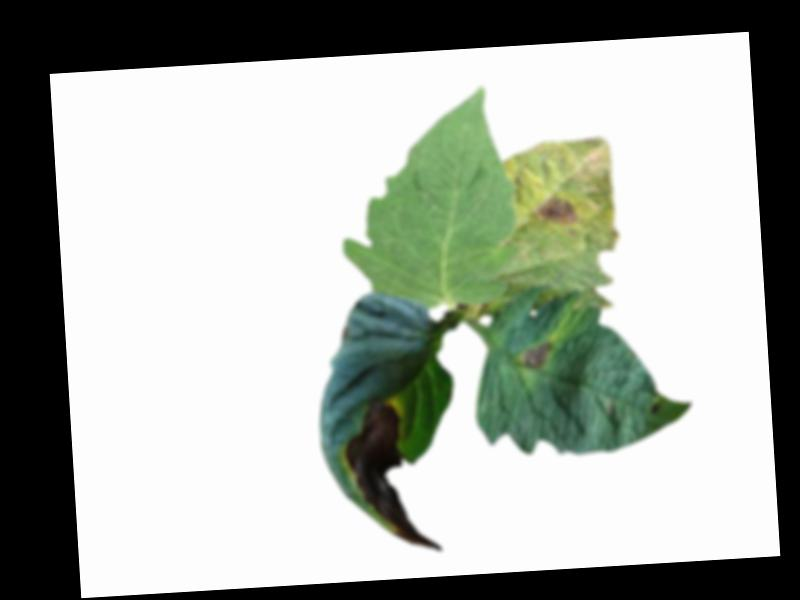Early_blight: (340, 391, 444, 556), (534, 195, 578, 229), (520, 338, 555, 370), (646, 400, 660, 415)
